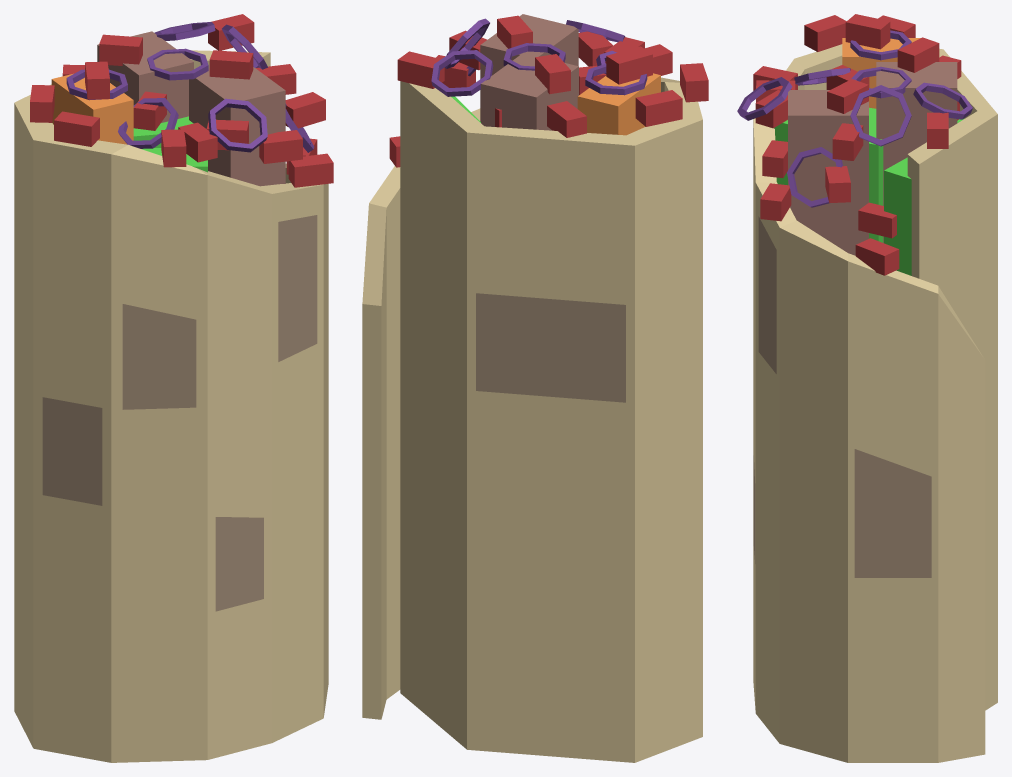
The model's file is Burito.fbx.
3 views of the same model, side by side, from view 1: azimuth 30°, elevation 25°; view 2: azimuth 150°, elevation 25°; view 3: azimuth 270°, elevation 25° (orthographic). The views are drawn at different scales.
Parts seen in each view (by area): view 1: Burito; view 2: Burito; view 3: Burito.
Part boxes in pixels (x1,y1,x2,y2): Burito: (14, 14, 333, 762); Burito: (362, 14, 708, 762); Burito: (737, 14, 997, 762).
Bounding box in the file's own units: 271 × 578 × 213.
